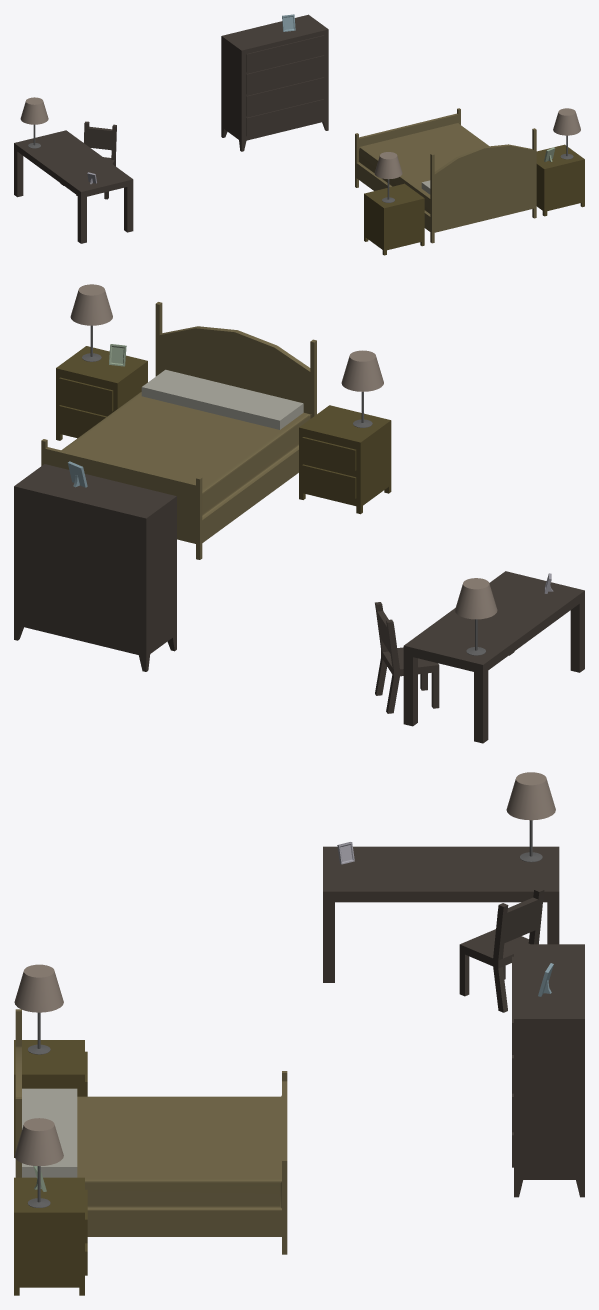
File: bedroomFurniture_GRP.fbx
3 renders of one model, top to bottom at view 1: azimuth 30°, elevation 25°; view 2: azimuth 150°, elevation 25°; view 3: azimuth 270°, elevation 25°, orthographic. The views are drawn at different scales.
Parts seen in each view (by area): view 1: door10, door9, door13, door29, door33, door30, pCylinder10, pCylinder19, pCylinder17; view 2: door10, door9, door13, door29, door33, door31, door30, door32, pCylinder10, pCylinder19, pCylinder17; view 3: door10, door9, door13, door33, door30, door29, door31, pCylinder17, pCylinder10, pCylinder19, door32.
Boxes of the visible parts, <box> form: door10: <box>355,108,536,243</box>; door9: <box>221,14,328,151</box>; door13: <box>14,130,133,243</box>; door29: <box>364,183,424,255</box>; door33: <box>536,144,584,216</box>; door30: <box>76,121,116,199</box>; pCylinder10: <box>20,97,48,124</box>; pCylinder19: <box>553,108,580,135</box>; pCylinder17: <box>374,152,402,179</box>; door10: <box>41,302,316,559</box>; door9: <box>14,464,176,671</box>; door13: <box>403,571,584,743</box>; door29: <box>299,405,391,514</box>; door33: <box>56,346,147,440</box>; door31: <box>208,386,303,429</box>; door30: <box>375,602,439,713</box>; door32: <box>141,369,235,413</box>; pCylinder10: <box>455,578,497,619</box>; pCylinder19: <box>70,284,112,325</box>; pCylinder17: <box>341,350,383,391</box>; door10: <box>15,1009,287,1254</box>; door9: <box>512,944,584,1197</box>; door13: <box>323,846,559,982</box>; door33: <box>14,1177,87,1295</box>; door30: <box>459,887,544,1012</box>; door29: <box>14,1040,87,1157</box>; door31: <box>22,1088,77,1126</box>; pCylinder17: <box>14,964,63,1012</box>; pCylinder10: <box>506,772,555,820</box>; pCylinder19: <box>14,1118,63,1166</box>; door32: <box>22,1126,77,1177</box>.
Size of the model in its own units: 71.87 by 19.01 by 48.29.
